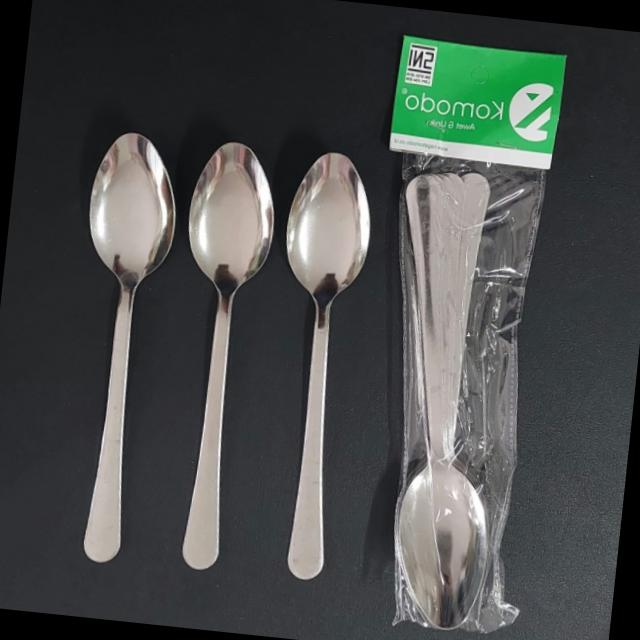spoon: (44, 119, 192, 570)
